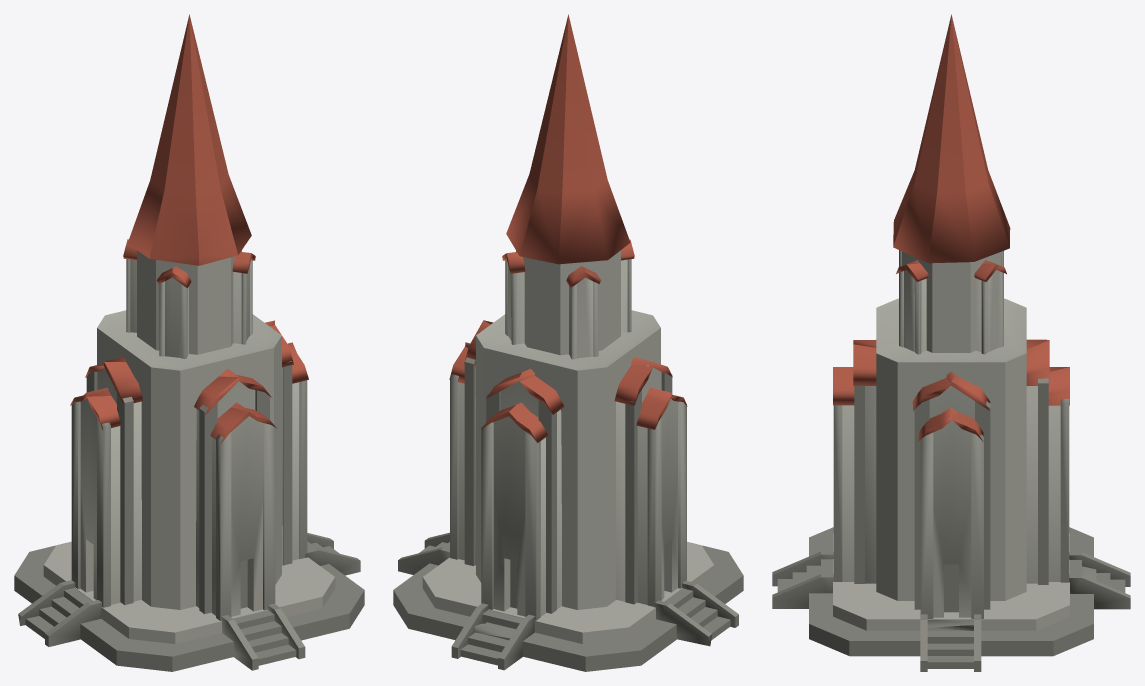
Rendered from Temple_SecondAge_Level2  LOD1.fbx.
The picture shows the model from 3 angles, left to right: view 1: azimuth 30°, elevation 25°; view 2: azimuth 150°, elevation 25°; view 3: azimuth 270°, elevation 25°; orthographic projection.
Visible parts, largest first — view 1: Temple_SecondAge_Level2; view 2: Temple_SecondAge_Level2; view 3: Temple_SecondAge_Level2.
Part boxes in pixels (box(x1,y1,x2,y2)): Temple_SecondAge_Level2: box(14, 14, 364, 671); Temple_SecondAge_Level2: box(393, 14, 743, 671); Temple_SecondAge_Level2: box(772, 14, 1130, 671).
Size of the model in its own units: 219 by 393 by 219.
